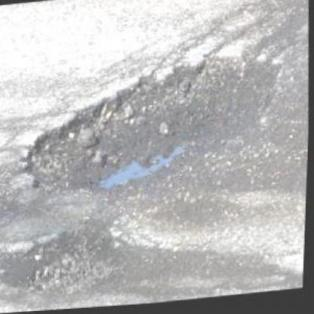Hueco: (21, 51, 285, 200), (18, 224, 121, 304)
